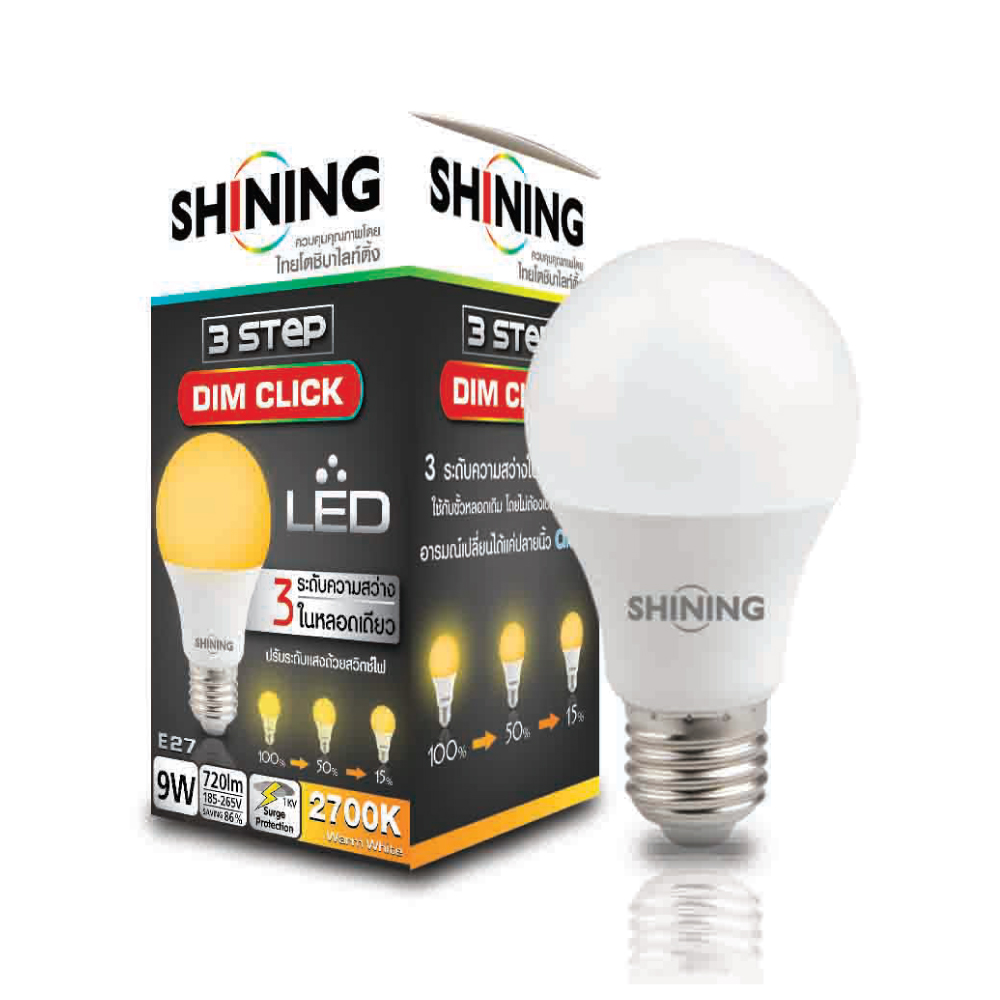Light_bulb: (508, 229, 885, 857)
